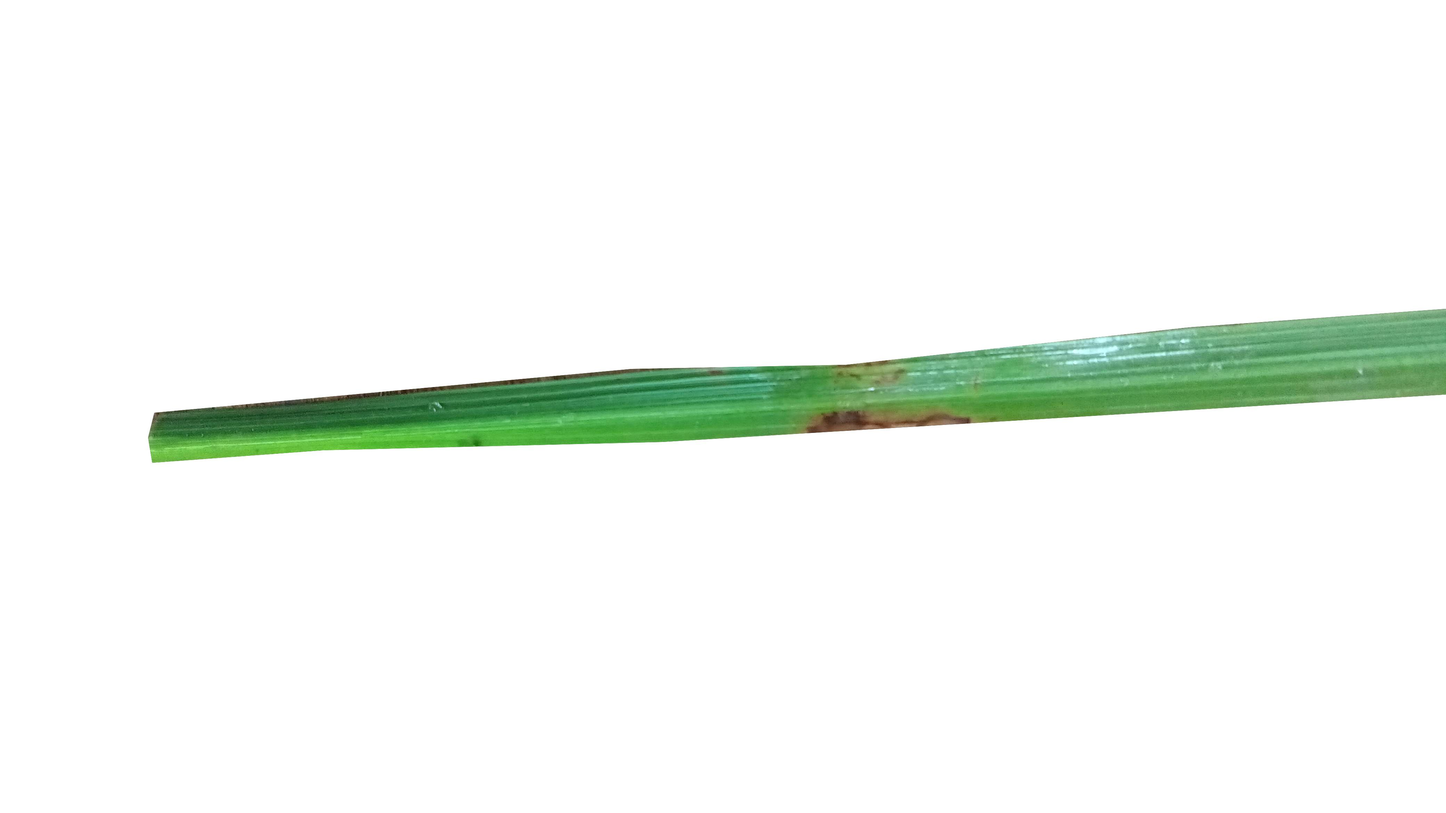Rice blast: (808, 401, 980, 439)
